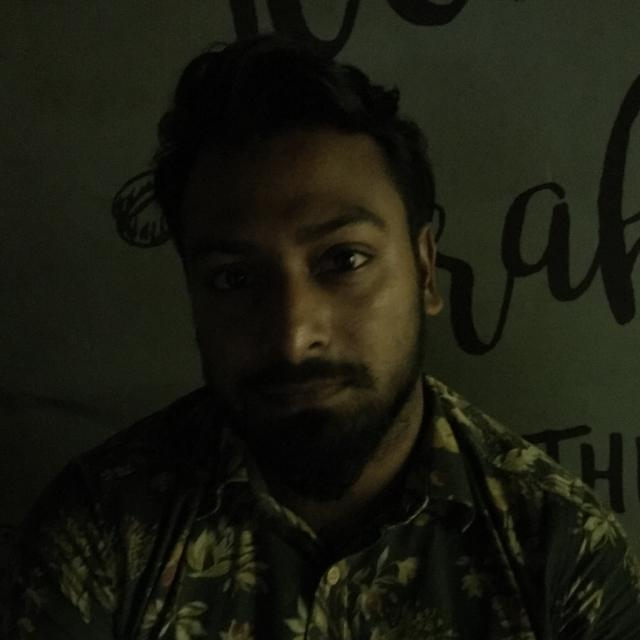Natural: (129, 97, 474, 514)
